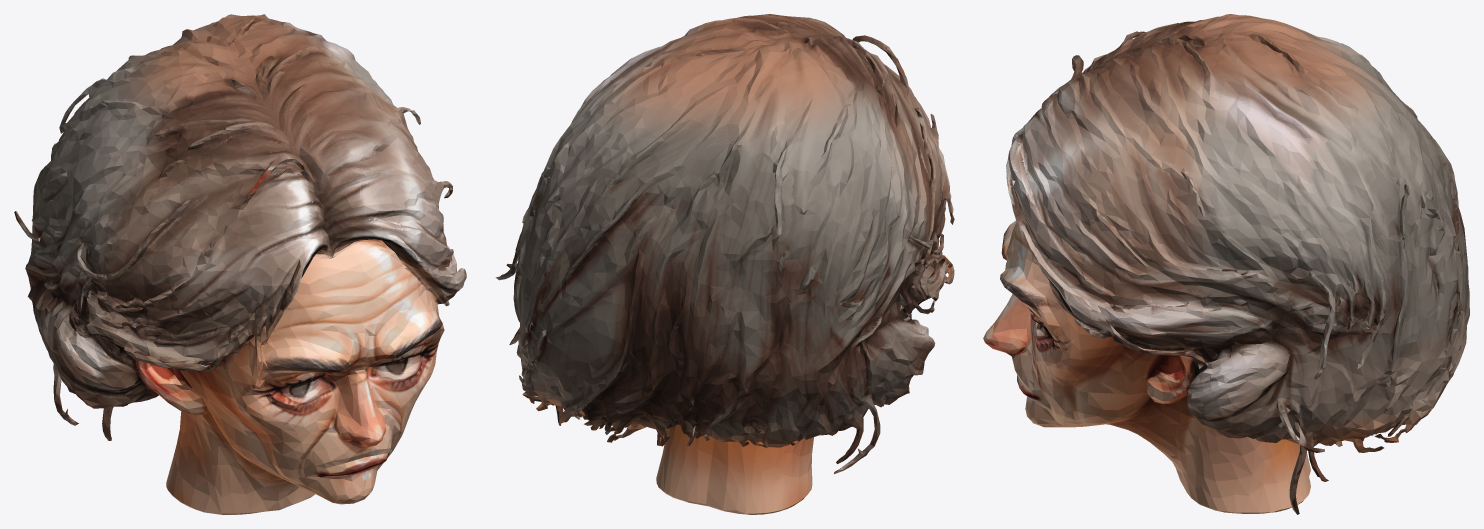
The model's file is side_grandmother_repaired_atlas.glb.
The picture shows the model from 3 angles, left to right: view 1: azimuth 30°, elevation 25°; view 2: azimuth 150°, elevation 25°; view 3: azimuth 270°, elevation 25°; orthographic projection.
Parts seen in each view (by area): view 1: temp_mesh.ply; view 2: temp_mesh.ply; view 3: temp_mesh.ply.
Part boxes in pixels (left/top/right/bottom): temp_mesh.ply: left=14, top=14, right=466, bottom=514; temp_mesh.ply: left=495, top=14, right=954, bottom=514; temp_mesh.ply: left=983, top=14, right=1469, bottom=514.
Bounding box in the file's own units: 1.21 × 1.34 × 1.33.
1 material, 1 textured.
